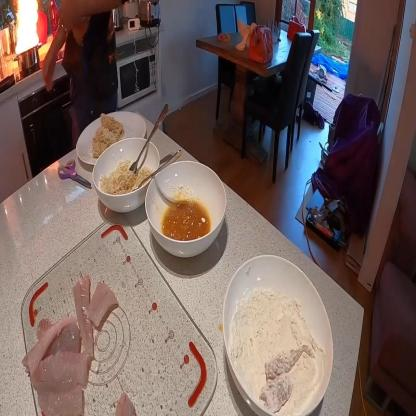fire: (11, 0, 42, 58)
